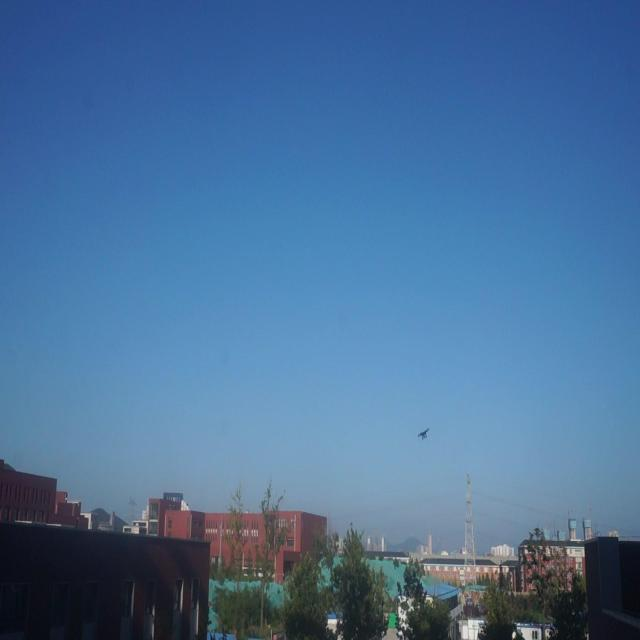drone: (415, 422, 433, 446)
